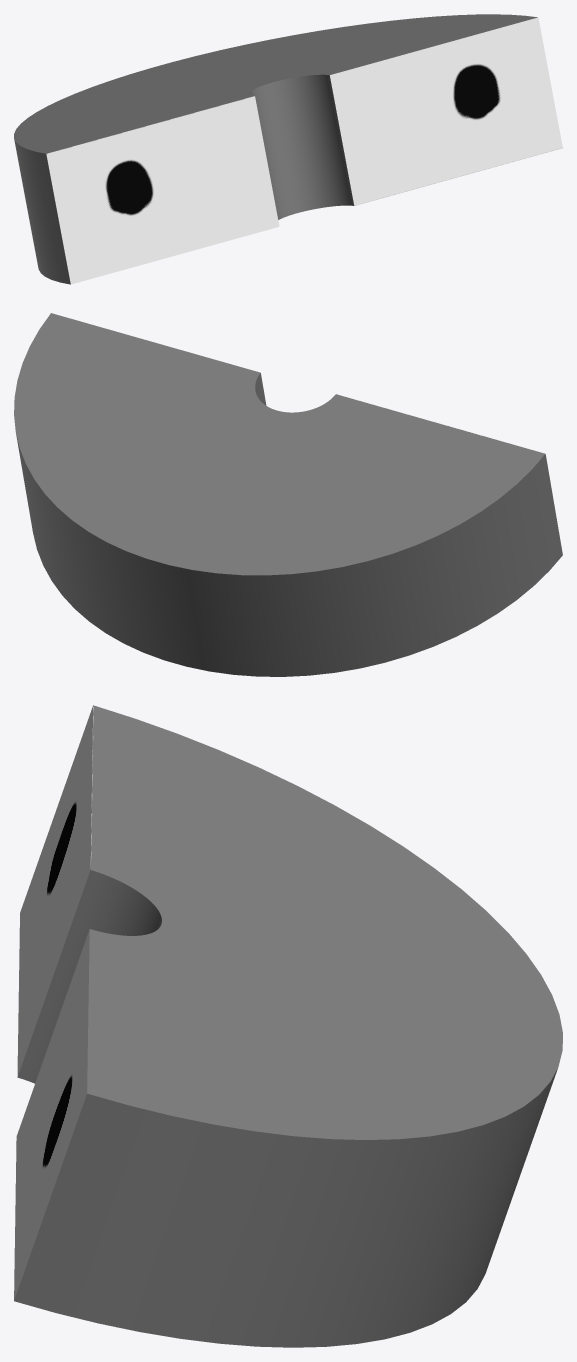
Rendered from Bloque 3D.dae.
3 views of the same model, one above another, from view 1: azimuth 30°, elevation 25°; view 2: azimuth 150°, elevation 25°; view 3: azimuth 270°, elevation 25° (orthographic). The views are drawn at different scales.
Parts seen in each view (by area): view 1: Layer_0; view 2: Layer_0; view 3: Layer_0.
Boxes of the visible parts, <box> form: Layer_0: <box>14,14,562,284</box>; Layer_0: <box>14,313,562,676</box>; Layer_0: <box>14,705,562,1347</box>.
Bounding box in the file's own units: 41.1 × 16.3 × 22.53.
